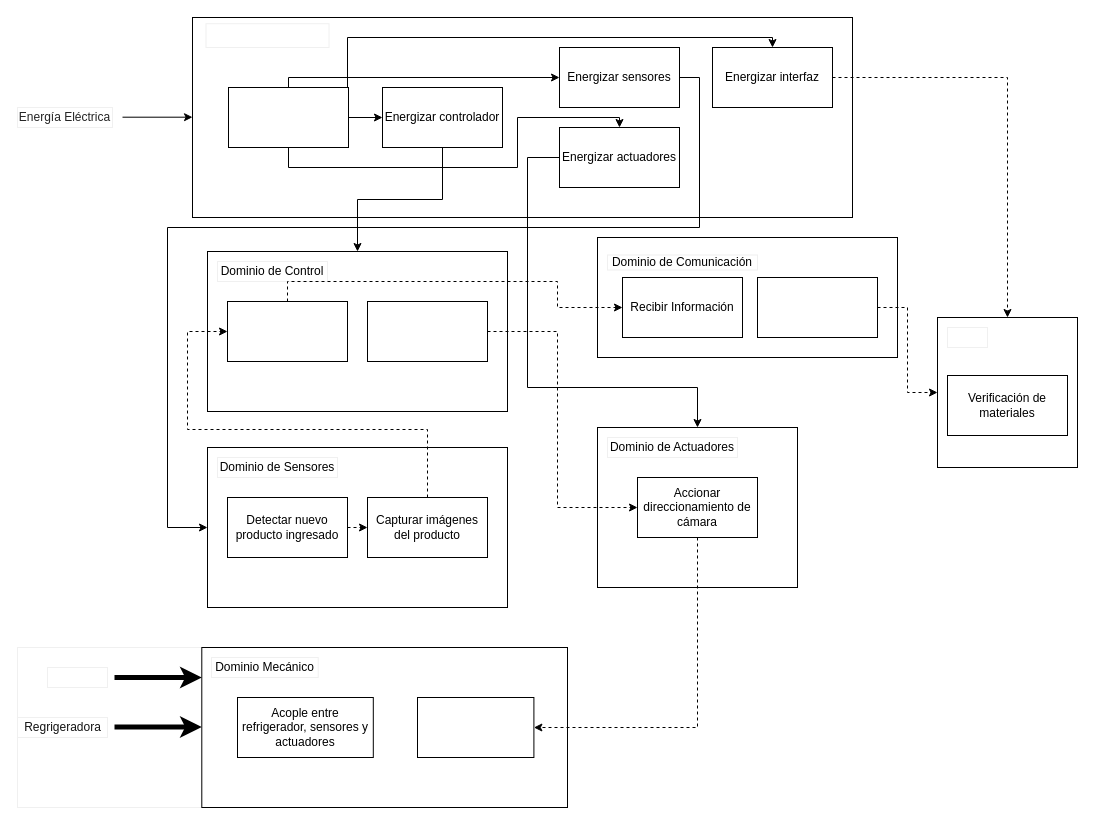
The diagram is 1095 pixels wide and 825 high, and some of its shapes have lost their labels. The shapes that lost their labels are listed below. From the top down, each one's centre as x and y in pixels, then its label:
the point at 267,35: Dominio de Energía
the point at 288,117: Encendido del sistema
the point at 817,307: Enviar Información
the point at 287,331: Identificación de producto
the point at 427,331: Control de posición de cámara
the point at 967,337: Interfaz
the point at 77,677: Insumos
the point at 475,727: Soporte para direccionar cámara
